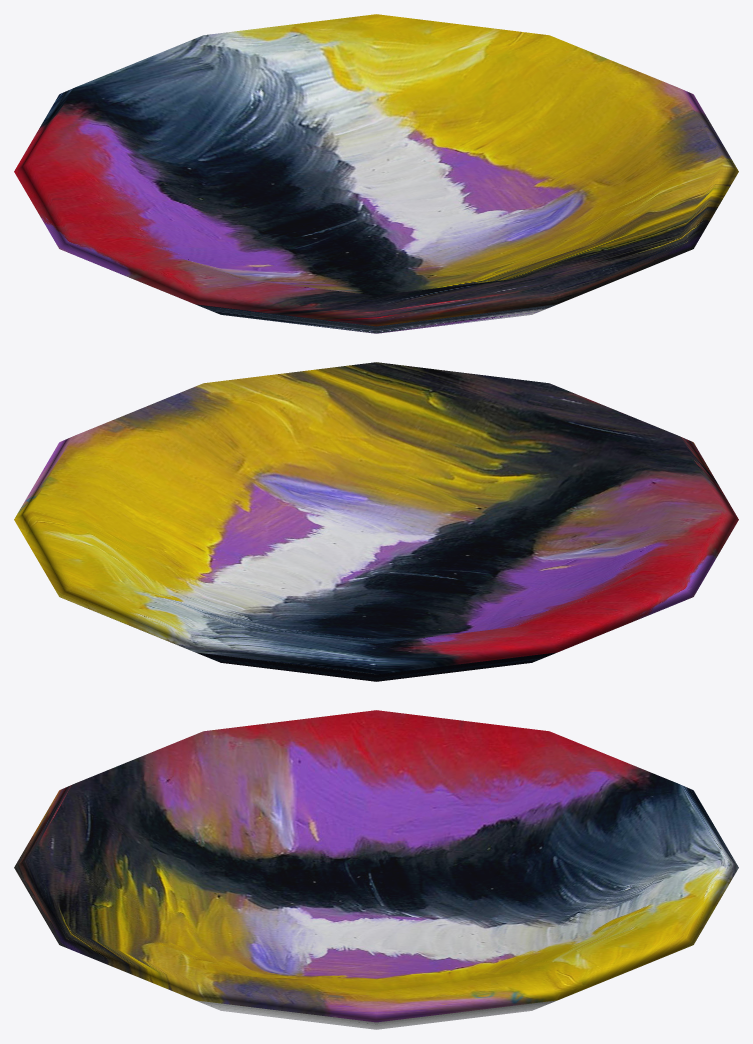
Rendered from fourplate.fbx.
3 views of the same model, one above another, from view 1: azimuth 30°, elevation 25°; view 2: azimuth 150°, elevation 25°; view 3: azimuth 270°, elevation 25° (orthographic).
Parts seen in each view (by area): view 1: plate; view 2: plate; view 3: plate.
Part boxes in pixels (box(x1,y1,x2,y2)): plate: box(14, 14, 738, 333); plate: box(14, 362, 738, 681); plate: box(14, 710, 738, 1029).
Size of the model in its own units: 1.6 by 0.188 by 1.58.
